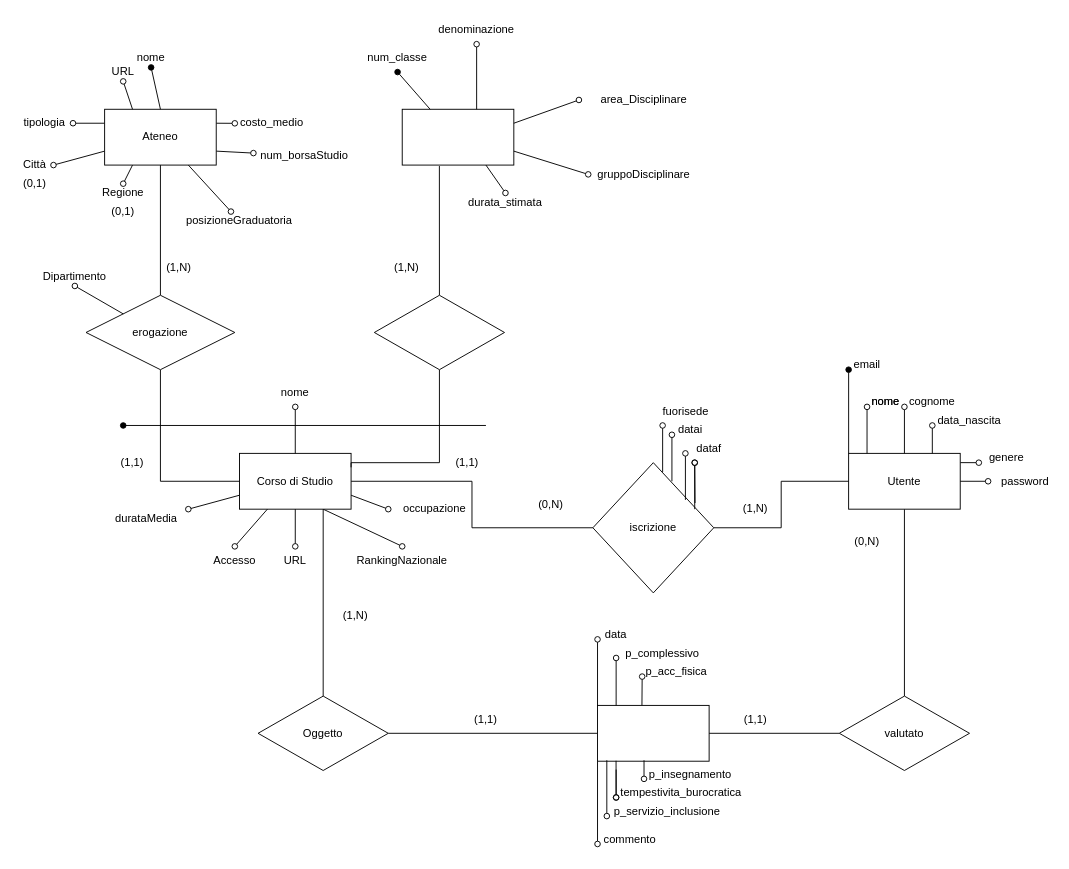
This 1069x869 diagram has some shape labels left out. Here are the shapes that lost their labels. From the top down, the centre of each, then its label:
(457,136): Classe di Laurea
(439,332): appartenenza
(653,732): Valutazione
